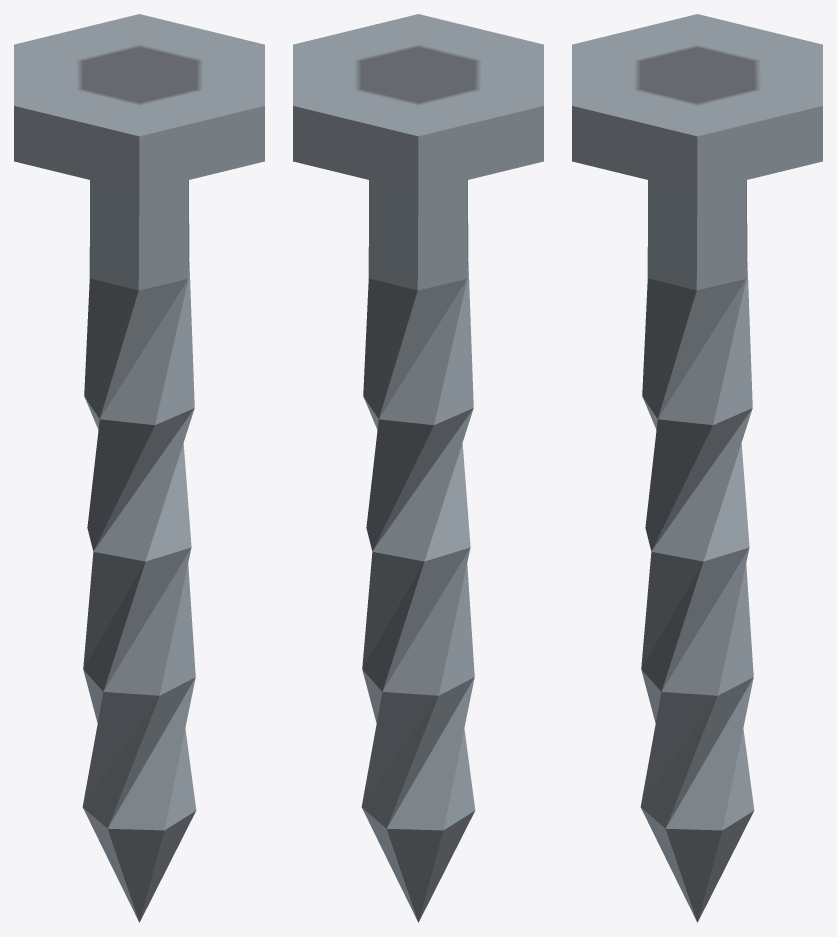
Rendered from SM_Item_Screw_03.fbx.
The picture shows the model from 3 angles, left to right: view 1: azimuth 30°, elevation 25°; view 2: azimuth 150°, elevation 25°; view 3: azimuth 270°, elevation 25°; orthographic projection.
Visible parts, largest first — view 1: SM_Item_Screw_03; view 2: SM_Item_Screw_03; view 3: SM_Item_Screw_03.
Part boxes in pixels (x1,y1,x2,y2): SM_Item_Screw_03: (14, 14, 264, 922); SM_Item_Screw_03: (293, 14, 543, 922); SM_Item_Screw_03: (572, 14, 822, 922).
Size of the model in its own units: 3.87 by 12.51 by 3.35.
